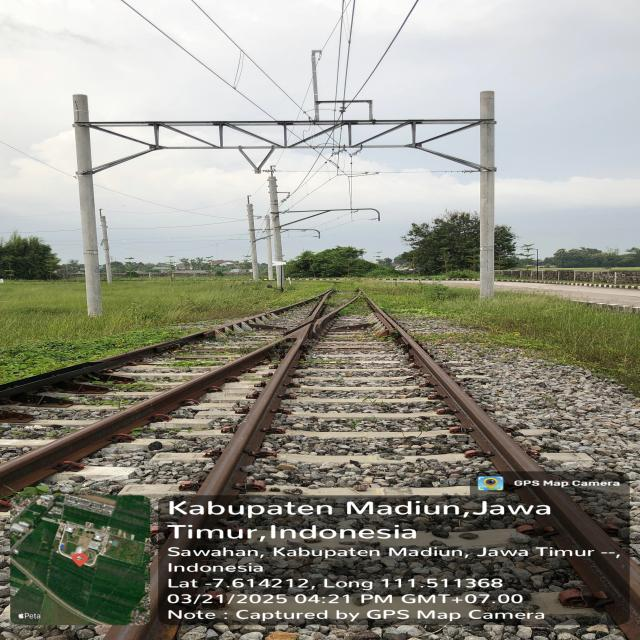rail-detection: (368, 300, 640, 640), (0, 340, 280, 495), (198, 329, 309, 495), (0, 321, 241, 397)
